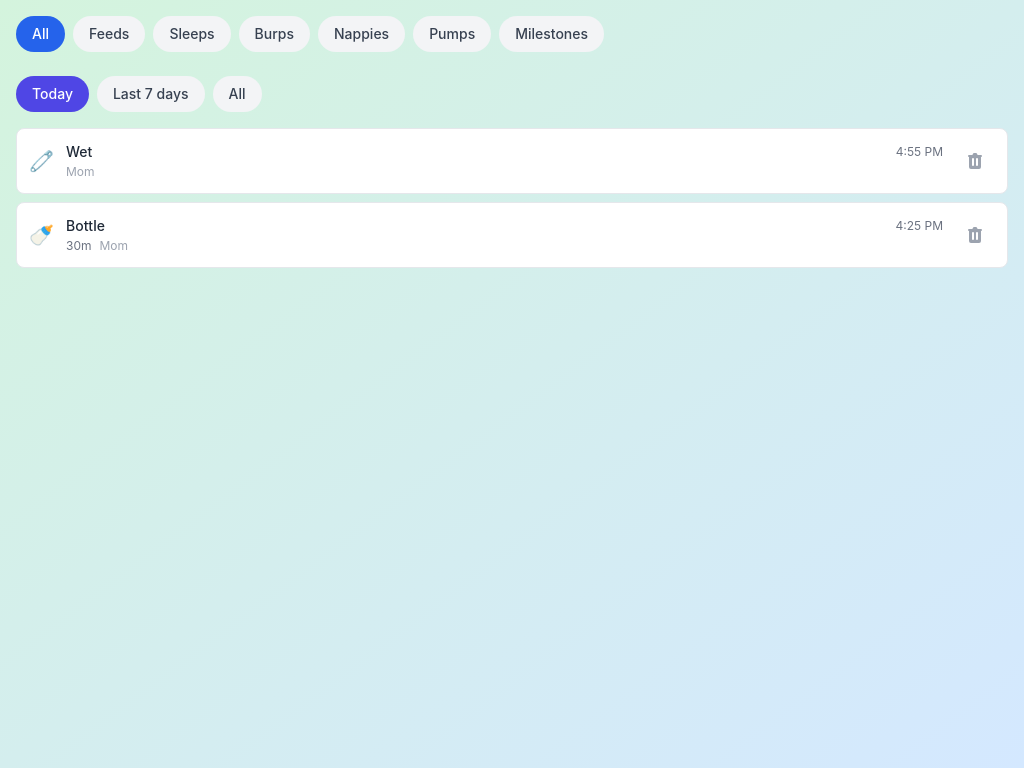
Test case: History — type filter › filters to show only feed events when Feeds is clicked
Expected: the text "Bottle" is shown, [66,216,105,236]
Click the button "Feeds". click: (109, 34)
box: [73,16,145,52]
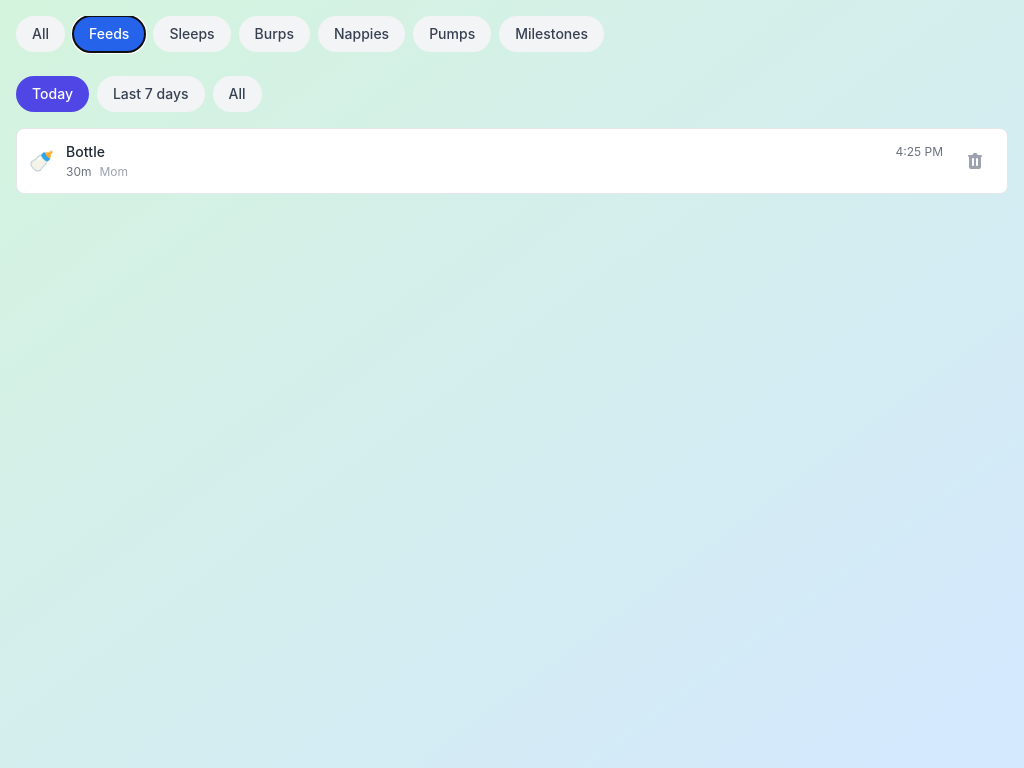
Expected: the text "Bottle" is shown, [66,142,105,162]
Result: the button "Wet" is gone
